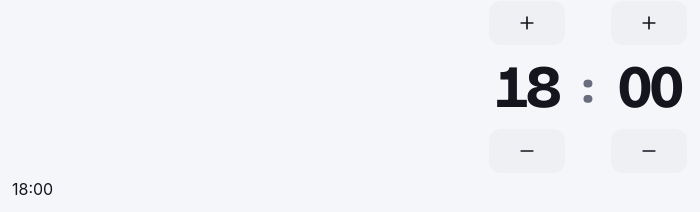
Test: ClockPicker, as a person uses it › refuses an hour that does not exist, says so, and keeps the last good one
Click the field named "Hora": point(526, 87) left=480, top=51, right=572, bottom=123
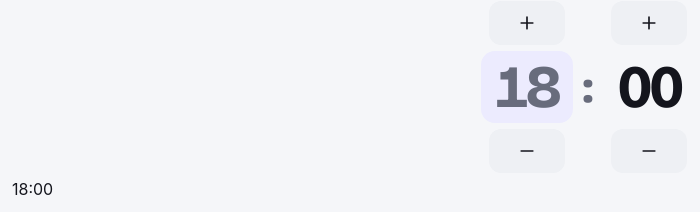
Type keys "2"
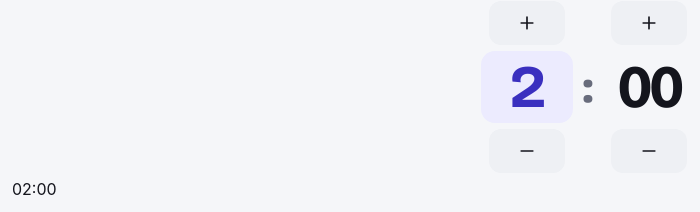
Type keys "5"
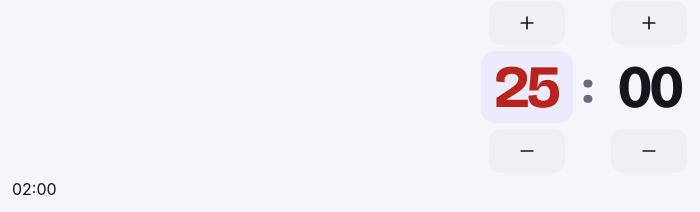
Now the field named "Hora" is marked as invalid, box left=480, top=51, right=572, bottom=123
Press Tab
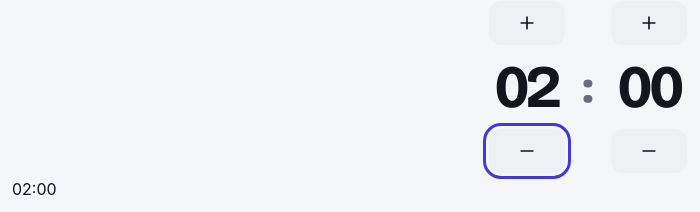
Now the field named "Hora" holds "02", box left=480, top=51, right=572, bottom=123
